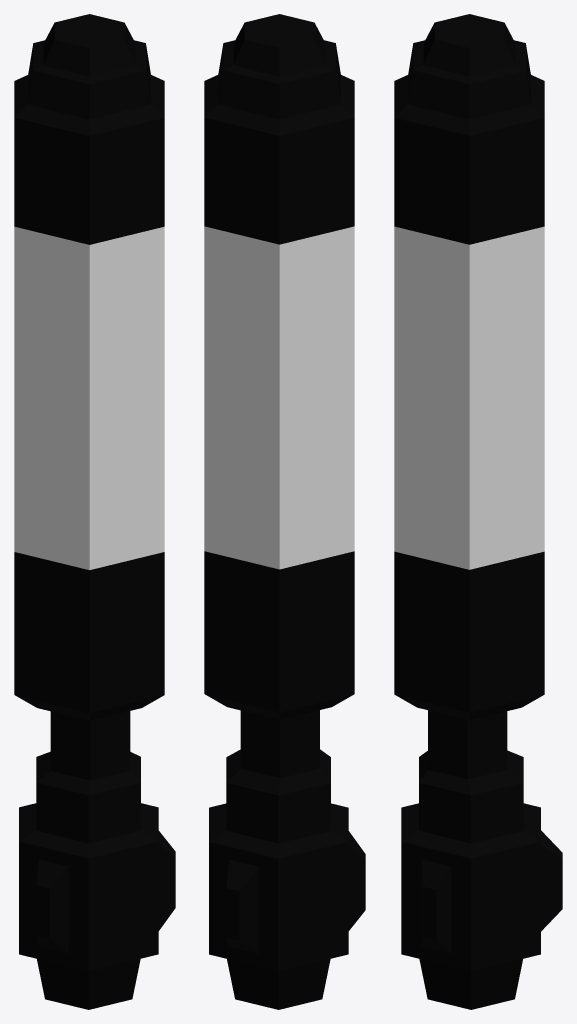
The model's file is space_SM_Prop_Missile_03.gltf.
The picture shows the model from 3 angles, left to right: view 1: azimuth 30°, elevation 25°; view 2: azimuth 150°, elevation 25°; view 3: azimuth 270°, elevation 25°; orthographic projection.
Parts seen in each view (by area): view 1: SM_Prop_Missile_03; view 2: SM_Prop_Missile_03; view 3: SM_Prop_Missile_03.
Part boxes in pixels (left/top/right/bottom): SM_Prop_Missile_03: left=14, top=14, right=175, bottom=1009; SM_Prop_Missile_03: left=204, top=14, right=365, bottom=1009; SM_Prop_Missile_03: left=394, top=14, right=562, bottom=1009.
Size of the model in its own units: 0.206 by 1.25 by 0.1996.
1 material, 1 textured.
